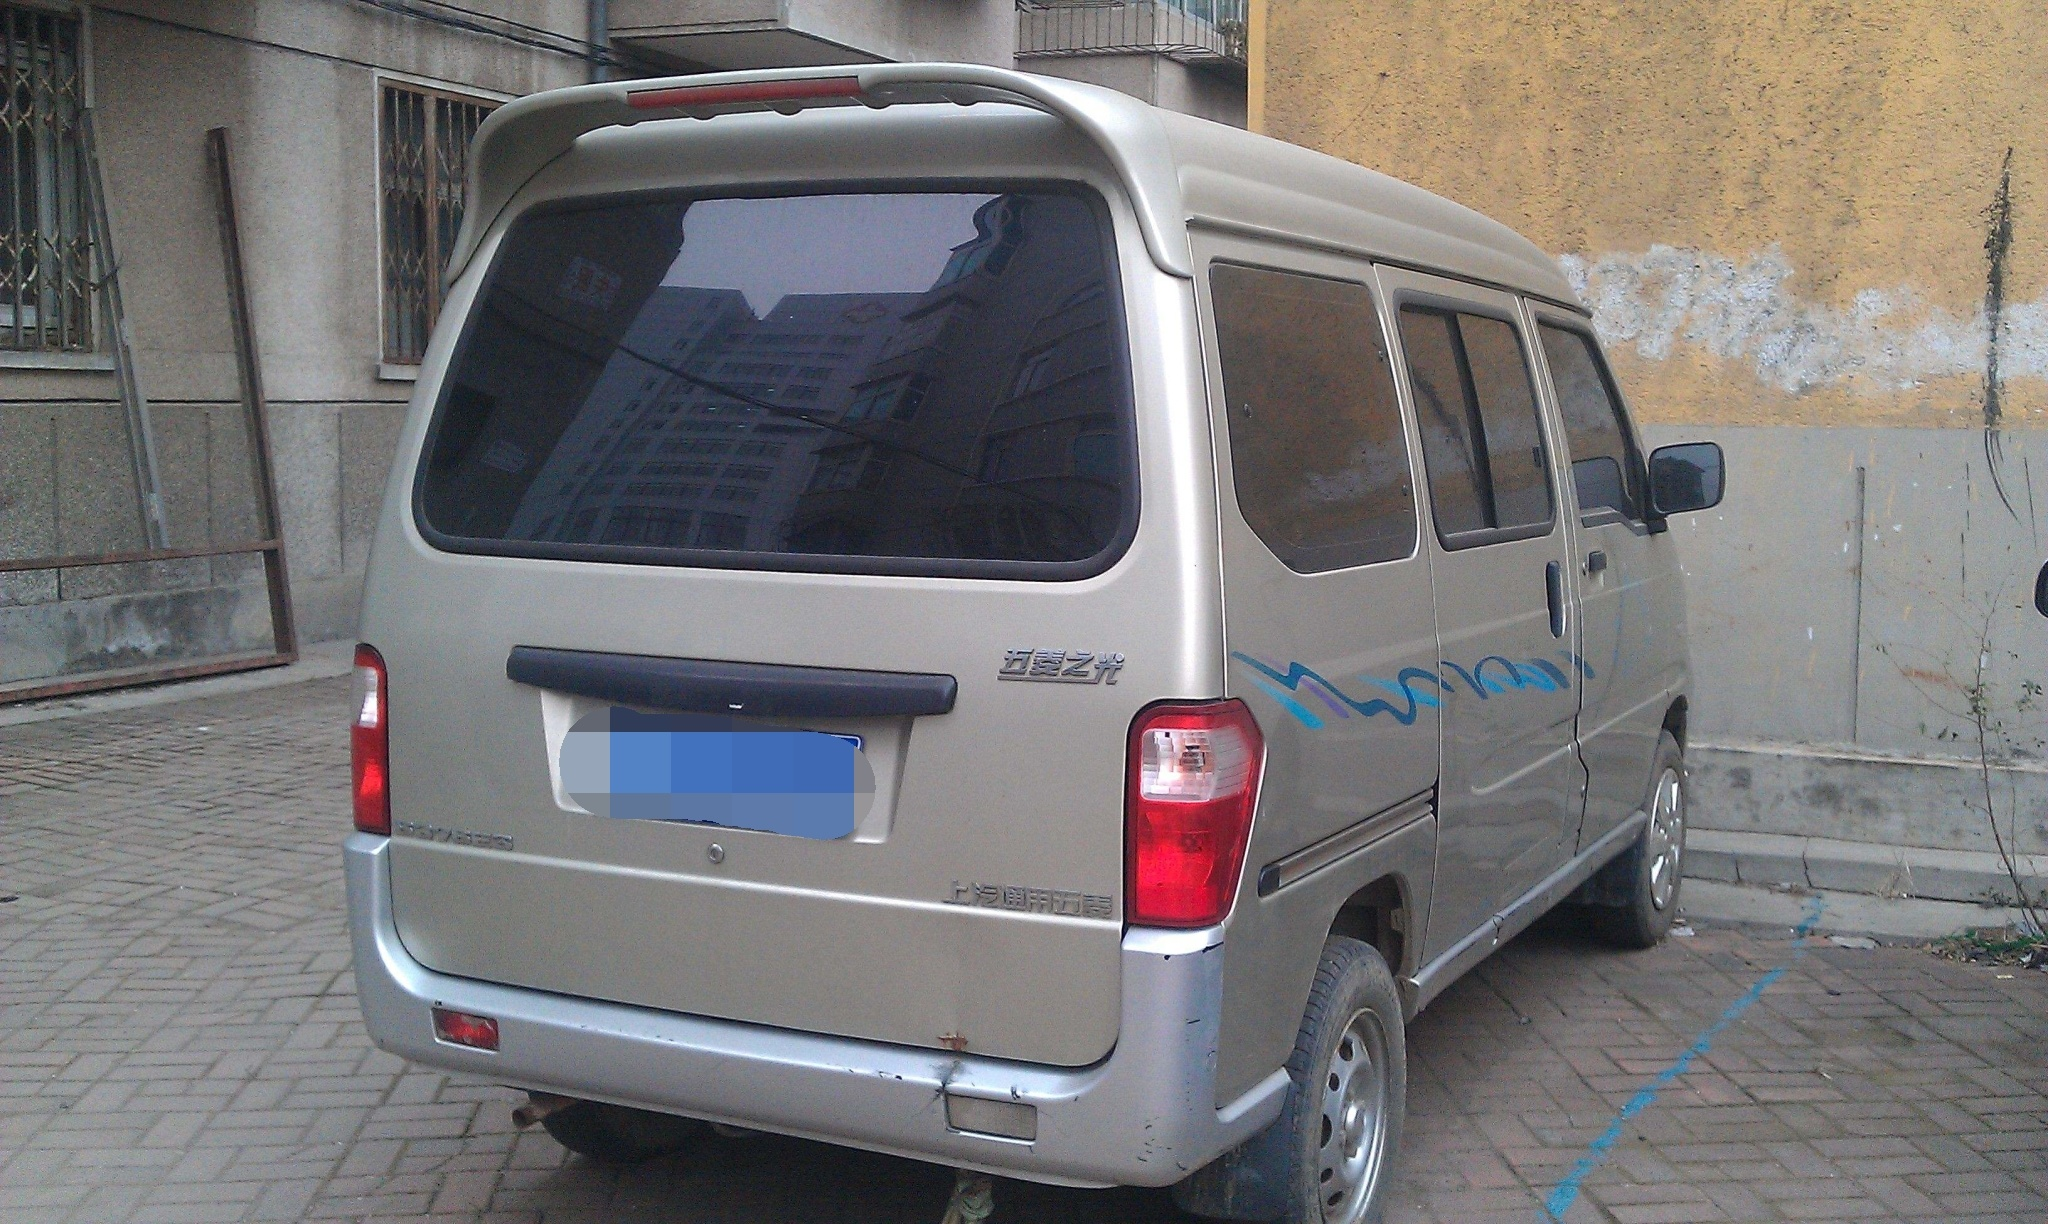minibus: (341, 74, 1722, 1224)
